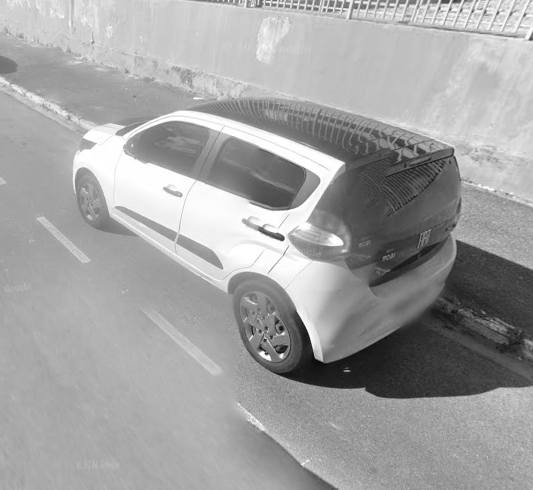car: (72, 95, 464, 376)
